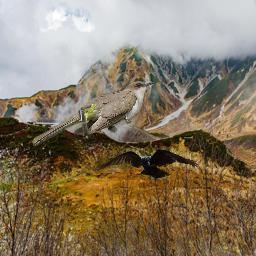Crow: (94, 148, 199, 184)
Cuckoo: (31, 80, 154, 146)
